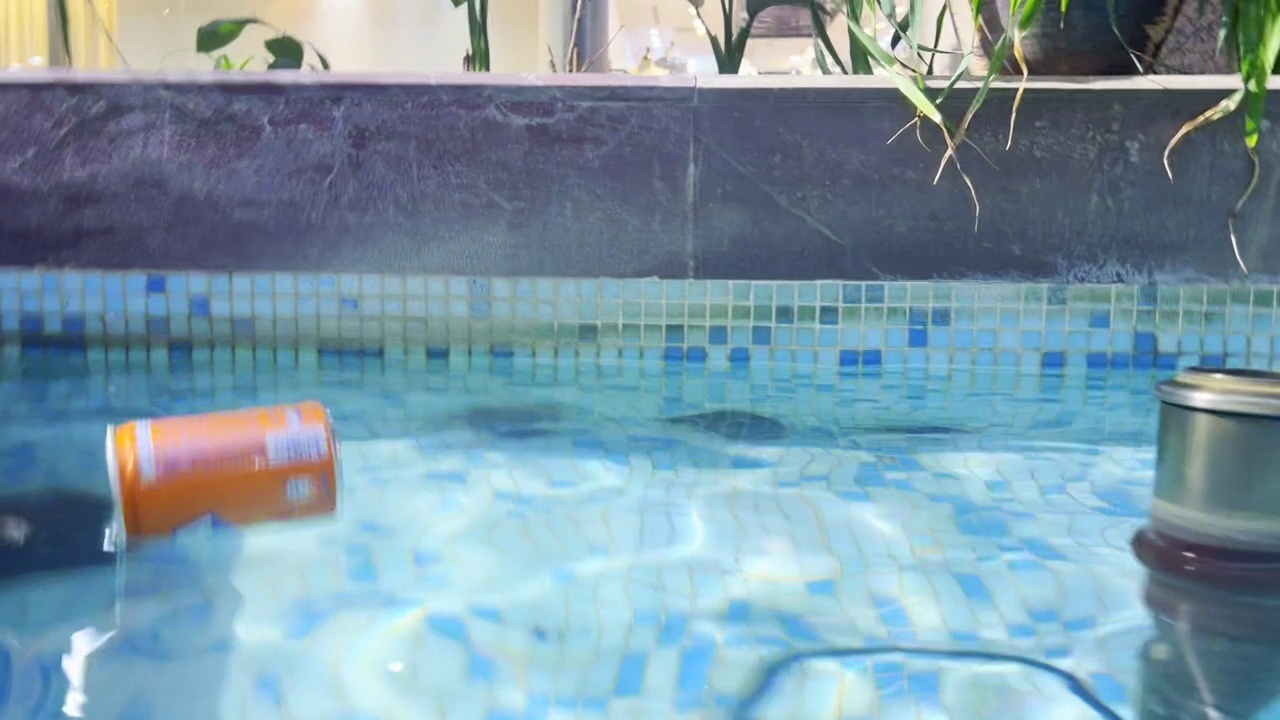debris: (99, 393, 348, 544)
